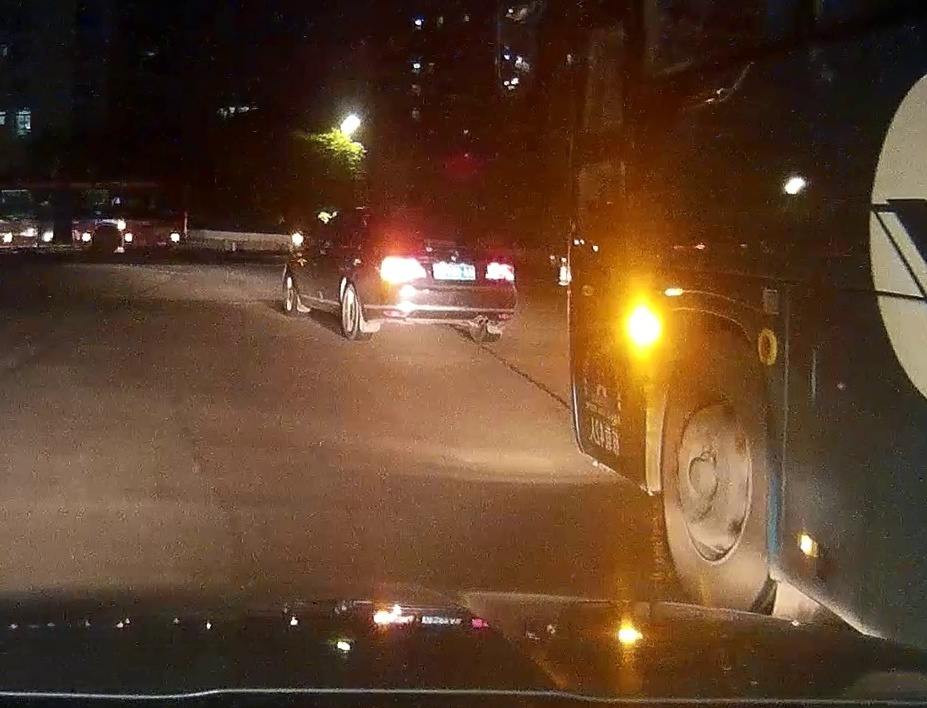L_light: (383, 256, 427, 278)
R_light: (486, 261, 515, 280), (442, 205, 463, 211)
night-no: (374, 200, 518, 342)
